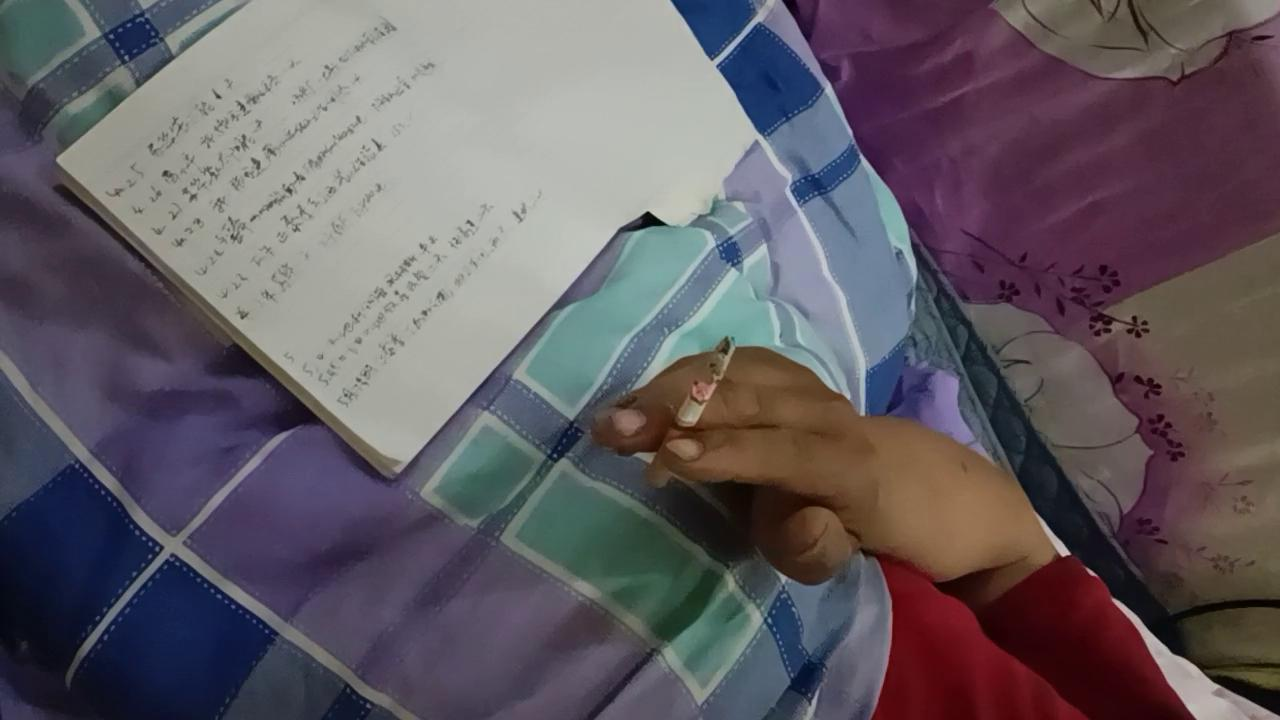smoke: (642, 336, 738, 489)
